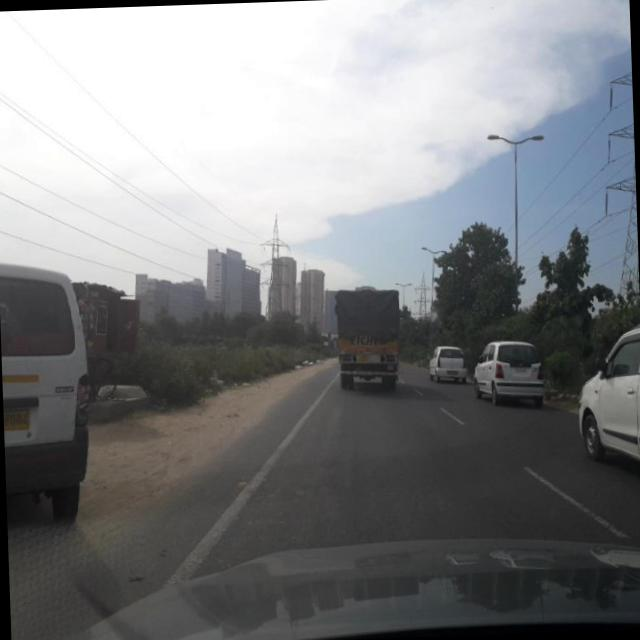crack: (210, 412, 576, 558)
